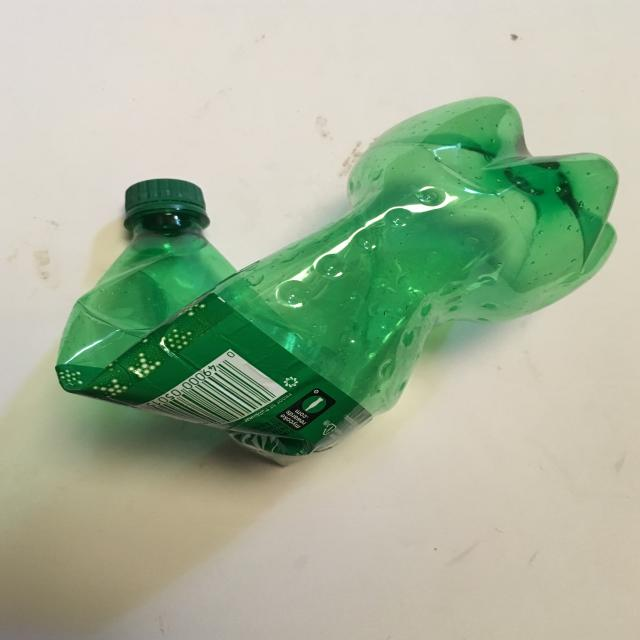Plastic: (50, 94, 636, 468)
